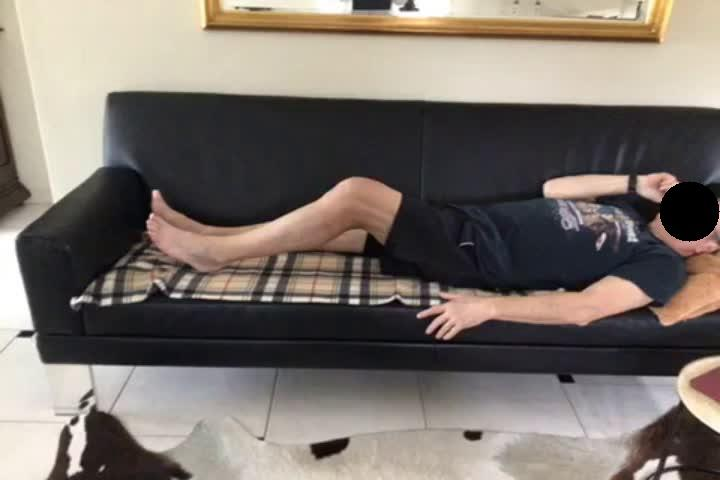lower_body: (149, 175, 500, 292)
